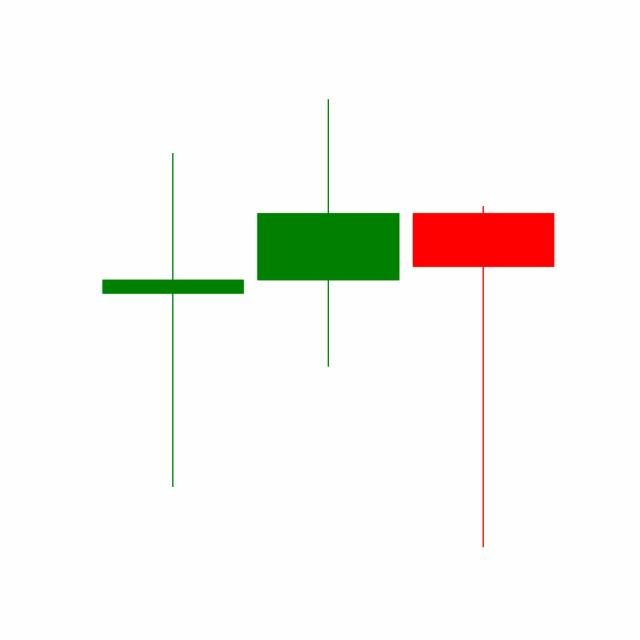Hammer: (405, 202, 561, 550)
